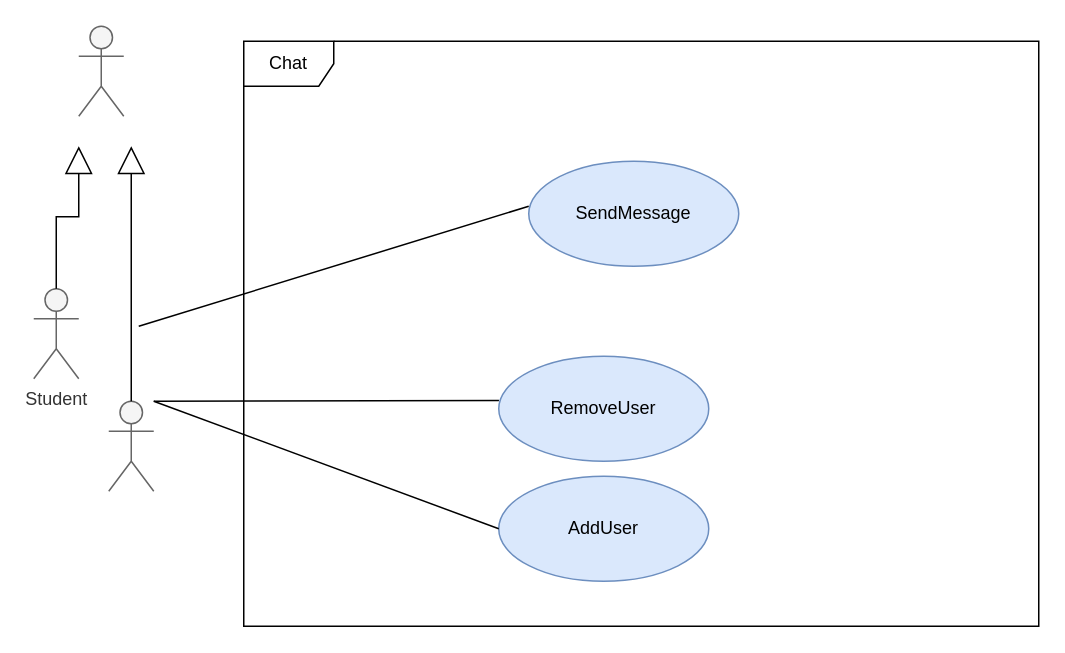
The diagram is 1065 pixels wide and 653 high, and some of its shapes have lost their labels. The box of each missing label's shape, as (x1, y1, x2, y2) in pixels:
Admin: (107, 400, 154, 491)
User: (77, 25, 124, 116)
